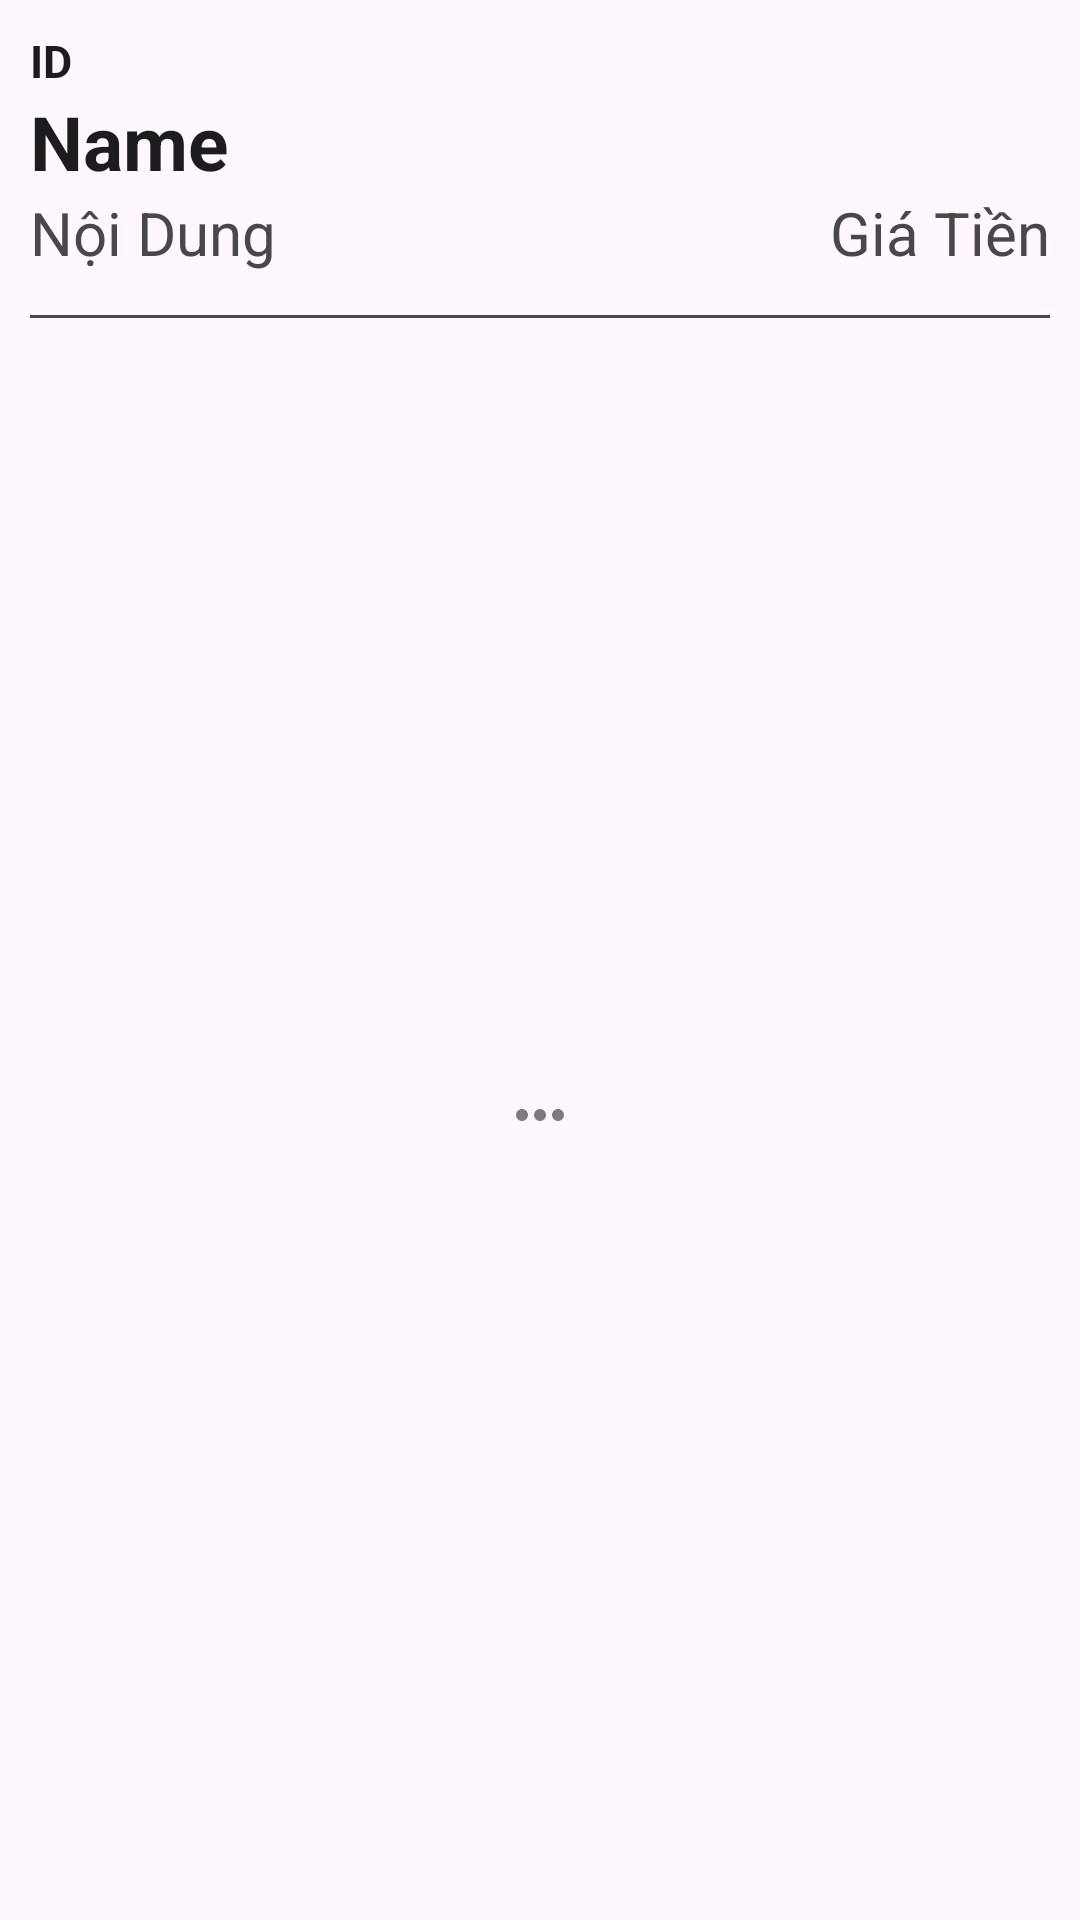

Screen size 1080w x 1920h. Icon name, then its center in pixels as (x=x, y=y):
more horiz: (x=540, y=1115)
